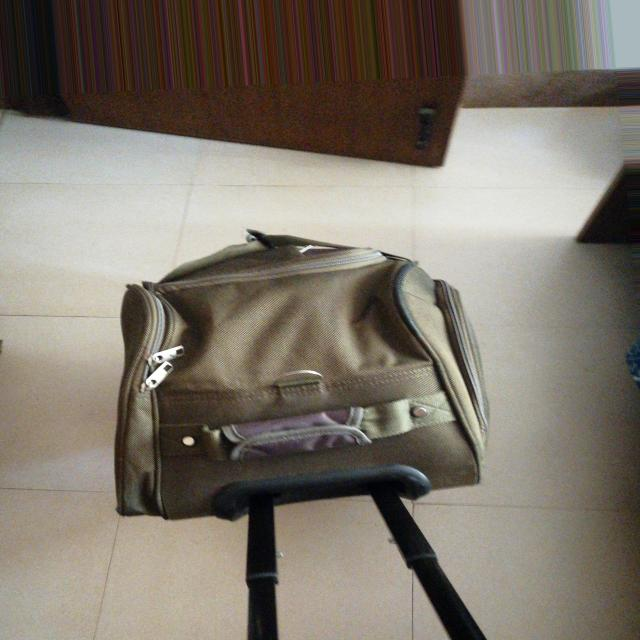Bag: (96, 195, 517, 635)
Handle: (231, 462, 516, 640)
